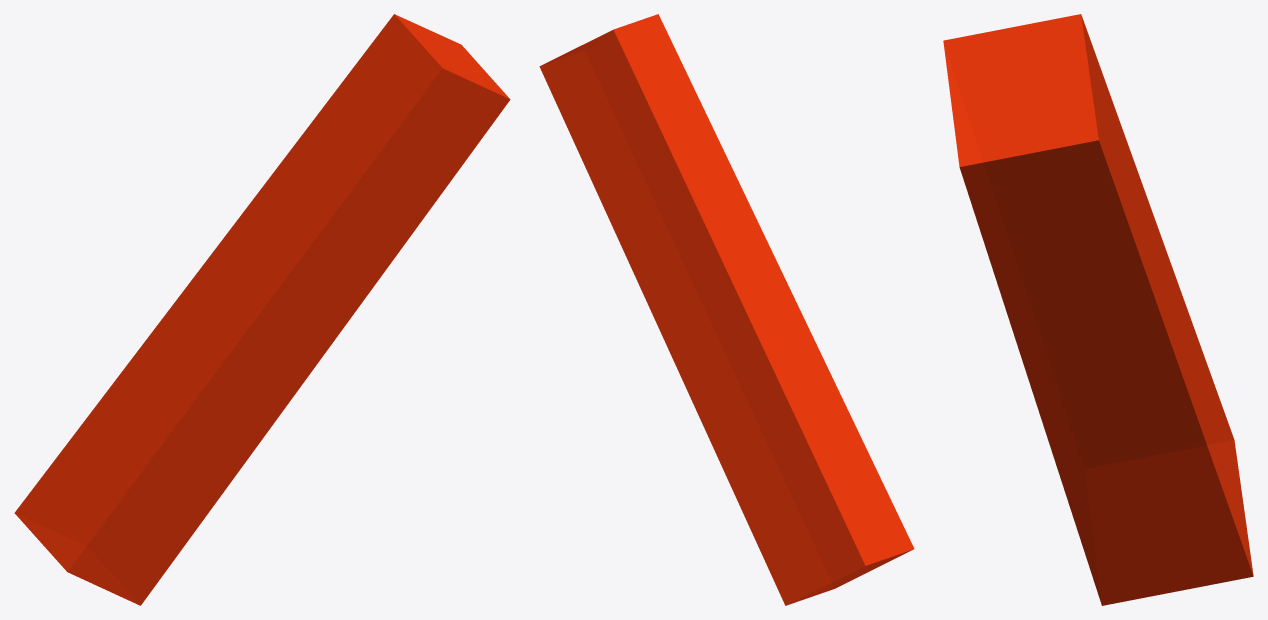
The model's file is Event_421127236_EBrechit_14.fbx.
The picture shows the model from 3 angles, left to right: view 1: azimuth 30°, elevation 25°; view 2: azimuth 150°, elevation 25°; view 3: azimuth 270°, elevation 25°; orthographic projection. The views are drawn at different scales.
Parts seen in each view (by area): view 1: Model; view 2: Model; view 3: Model.
Boxes of the visible parts, bbox=[...] form: Model: bbox=[14, 14, 510, 605]; Model: bbox=[539, 14, 914, 605]; Model: bbox=[943, 14, 1253, 605].
Bounding box in the file's own units: 0.2567 × 0.3301 × 0.1218.
